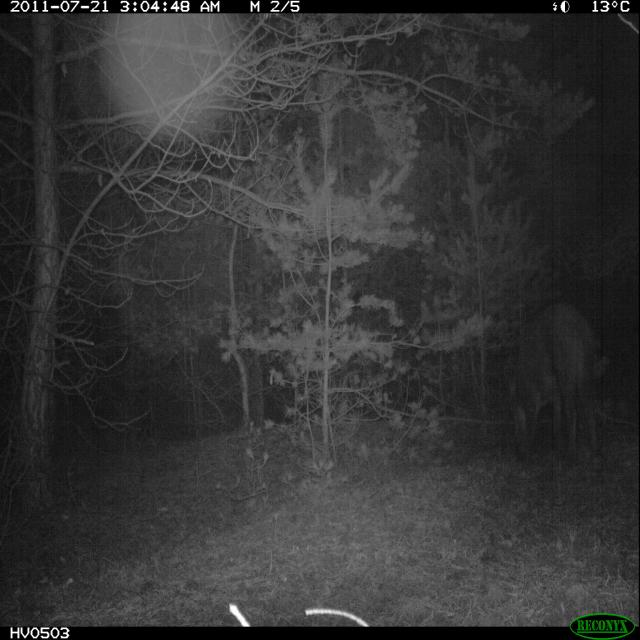boar: (498, 288, 627, 490)
